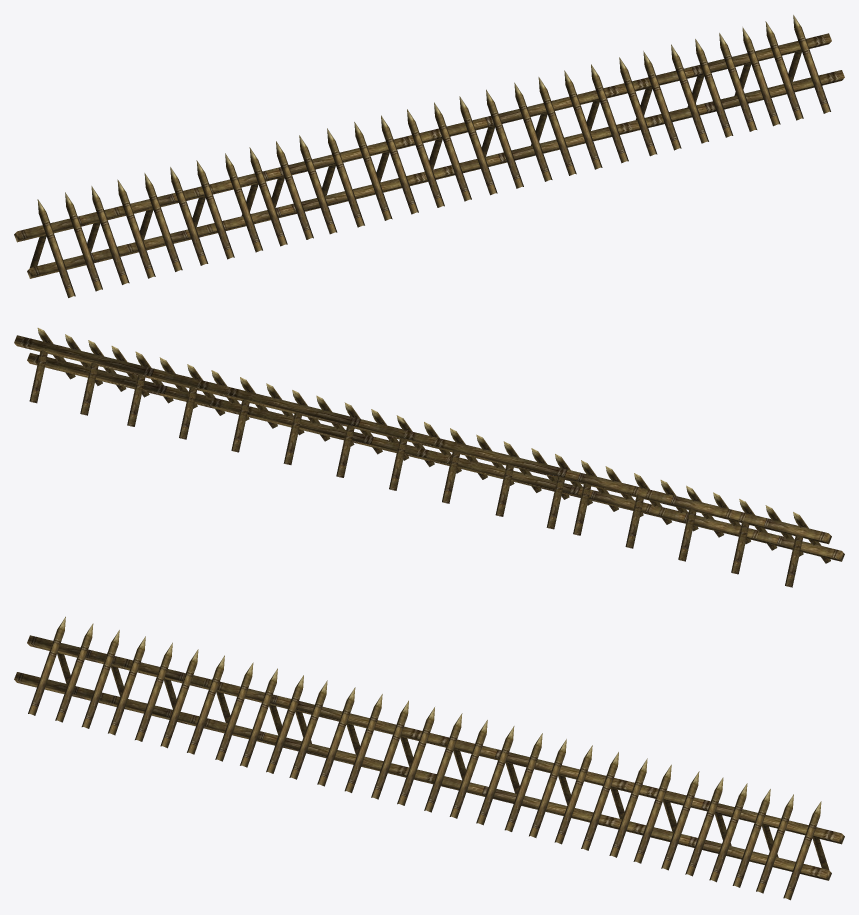
The model's file is bagh_barricade05.glb.
3 views of the same model, one above another, from view 1: azimuth 30°, elevation 25°; view 2: azimuth 150°, elevation 25°; view 3: azimuth 330°, elevation 25° (orthographic).
Visible parts, largest first — view 1: res\bldg\arabia\bagh_city\event\bagh_barricade05.bsr; view 2: res\bldg\arabia\bagh_city\event\bagh_barricade05.bsr; view 3: res\bldg\arabia\bagh_city\event\bagh_barricade05.bsr.
Part boxes in pixels (x1,y1,x2,y2): res\bldg\arabia\bagh_city\event\bagh_barricade05.bsr: [14, 15, 844, 297]; res\bldg\arabia\bagh_city\event\bagh_barricade05.bsr: [14, 328, 844, 587]; res\bldg\arabia\bagh_city\event\bagh_barricade05.bsr: [14, 616, 844, 900].
Size of the model in its own units: 148 by 13.28 by 13.4.
Materials: 1 (1 with a texture image).
